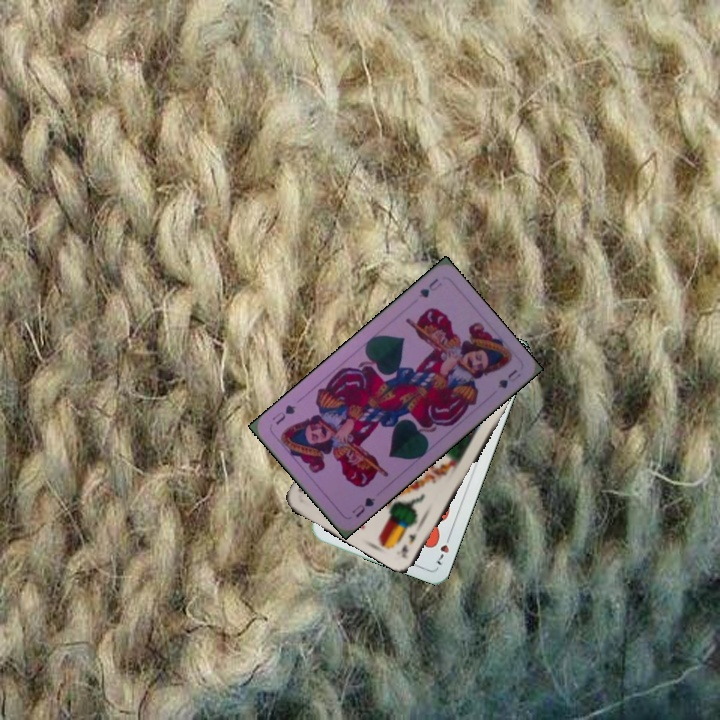EK: (397, 528, 418, 559)
GU: (348, 492, 378, 520), (415, 274, 445, 300)
H7: (432, 530, 453, 568)
